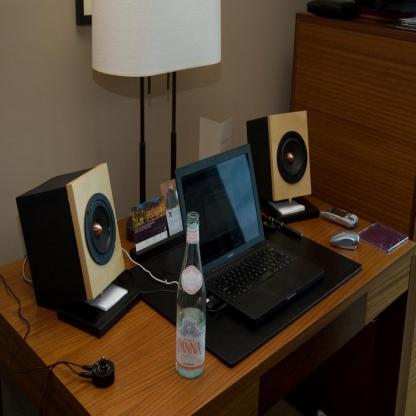board: (174, 144, 325, 326), (176, 213, 205, 380)
